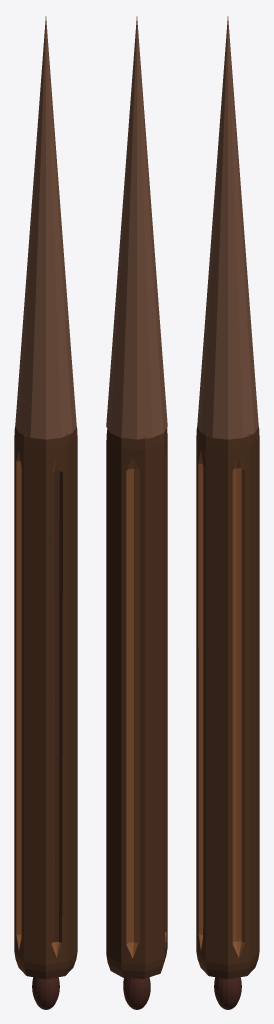
The model's file is Wand 526.glb.
The picture shows the model from 3 angles, left to right: view 1: azimuth 90°, elevation 25°; view 2: azimuth 150°, elevation 25°; view 3: azimuth 270°, elevation 25°; orthographic projection.
Parts seen in each view (by area): view 1: GeneratedWand; view 2: GeneratedWand; view 3: GeneratedWand.
Part boxes in pixels (x1,y1,x2,y2): GeneratedWand: [14, 16, 77, 1009]; GeneratedWand: [106, 16, 167, 1009]; GeneratedWand: [196, 16, 259, 1009].
Size of the model in its own units: 0.0289 by 0.5028 by 0.0289.
